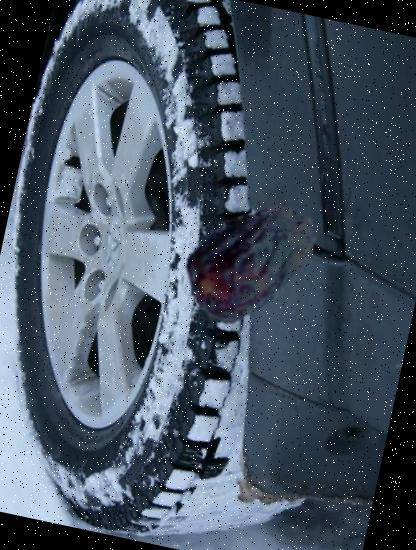Dates: (171, 184, 337, 350)
